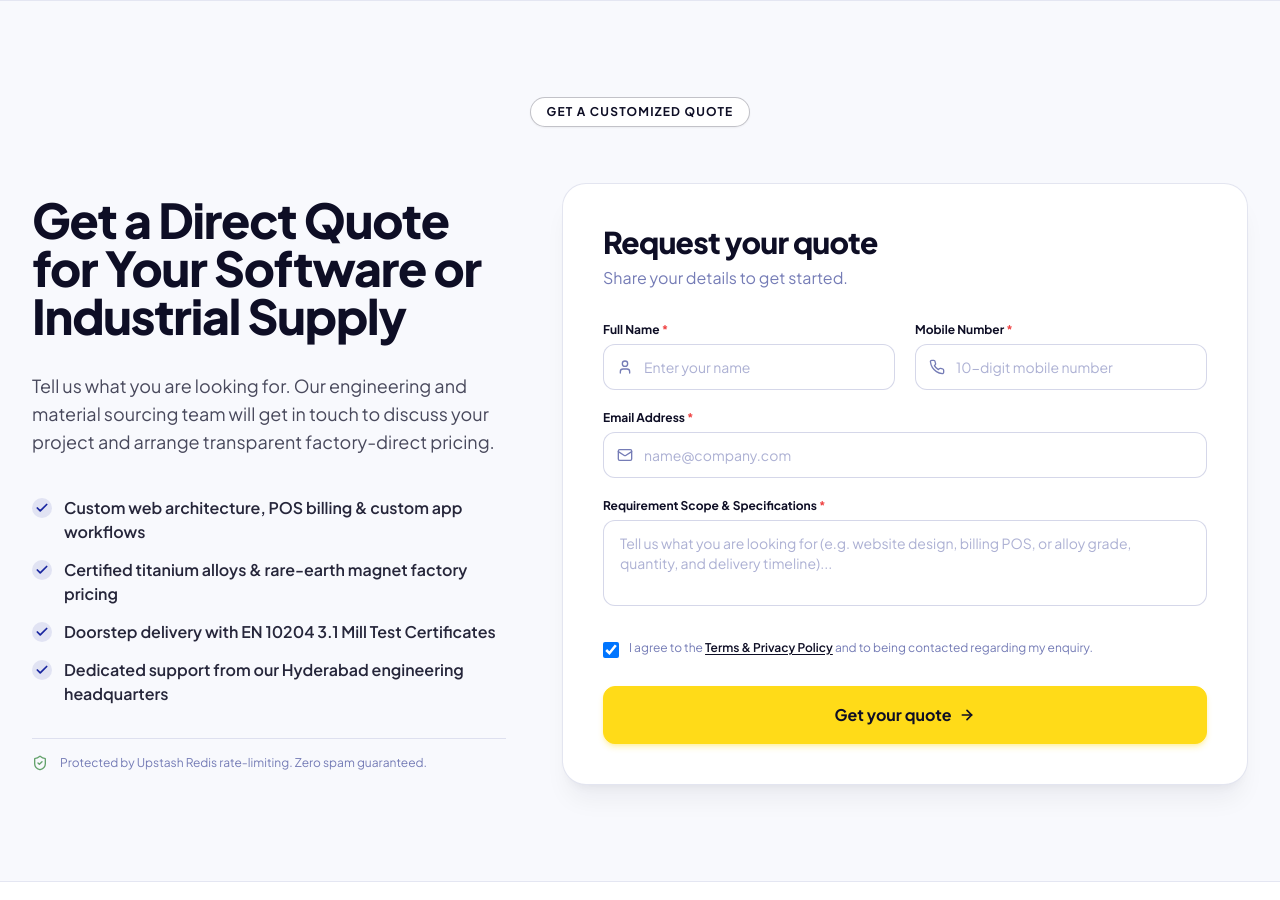
Scenario: Component: ContactUs › validates phone number format before submission
This screenshot has width=1280, height=900.
Type "John Doe" into the field with placeholder "Enter your name" at (749,367), box [603,344,895,390]
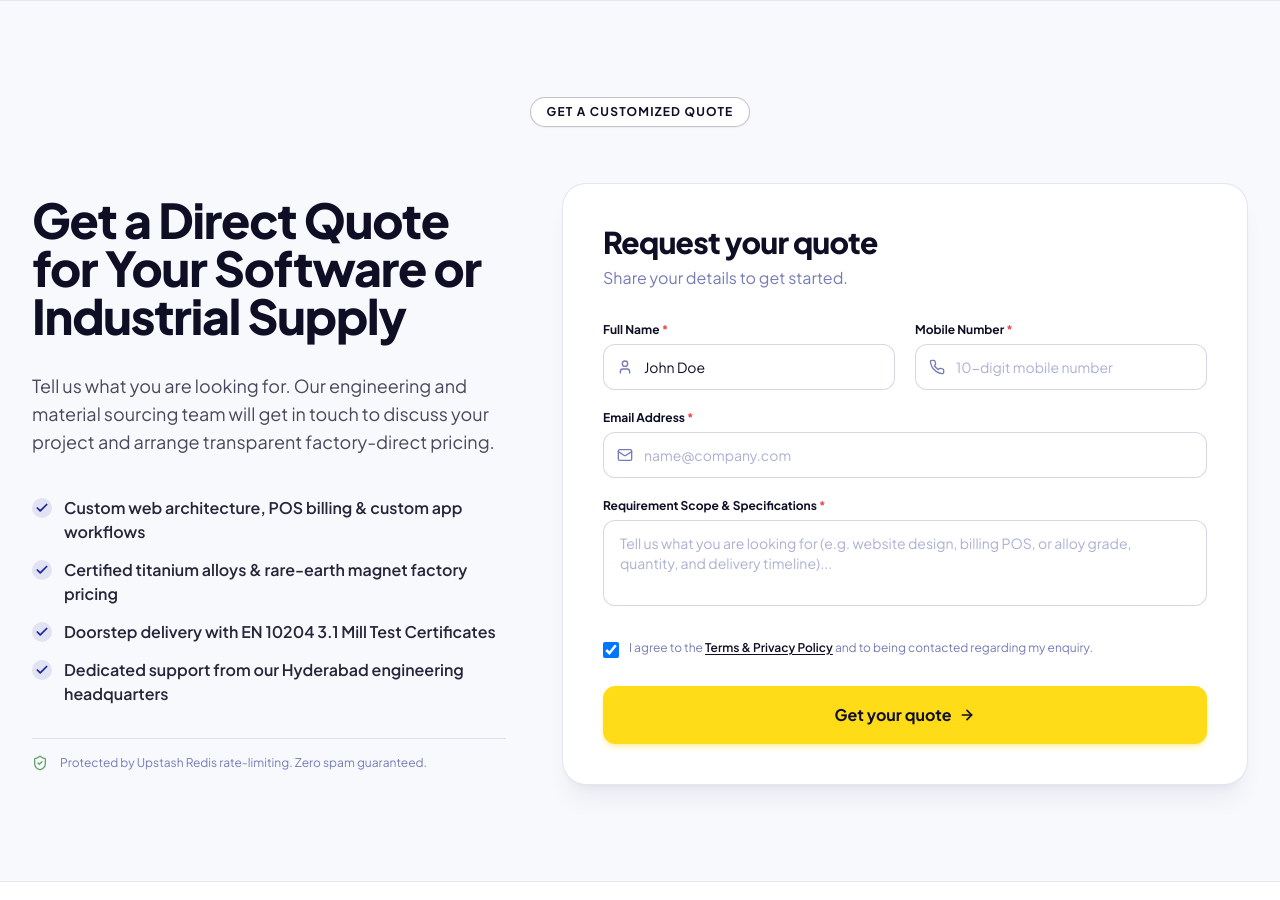
Type "123" into the field with placeholder "10-digit mobile number" at (1061,367), box [915,344,1207,390]
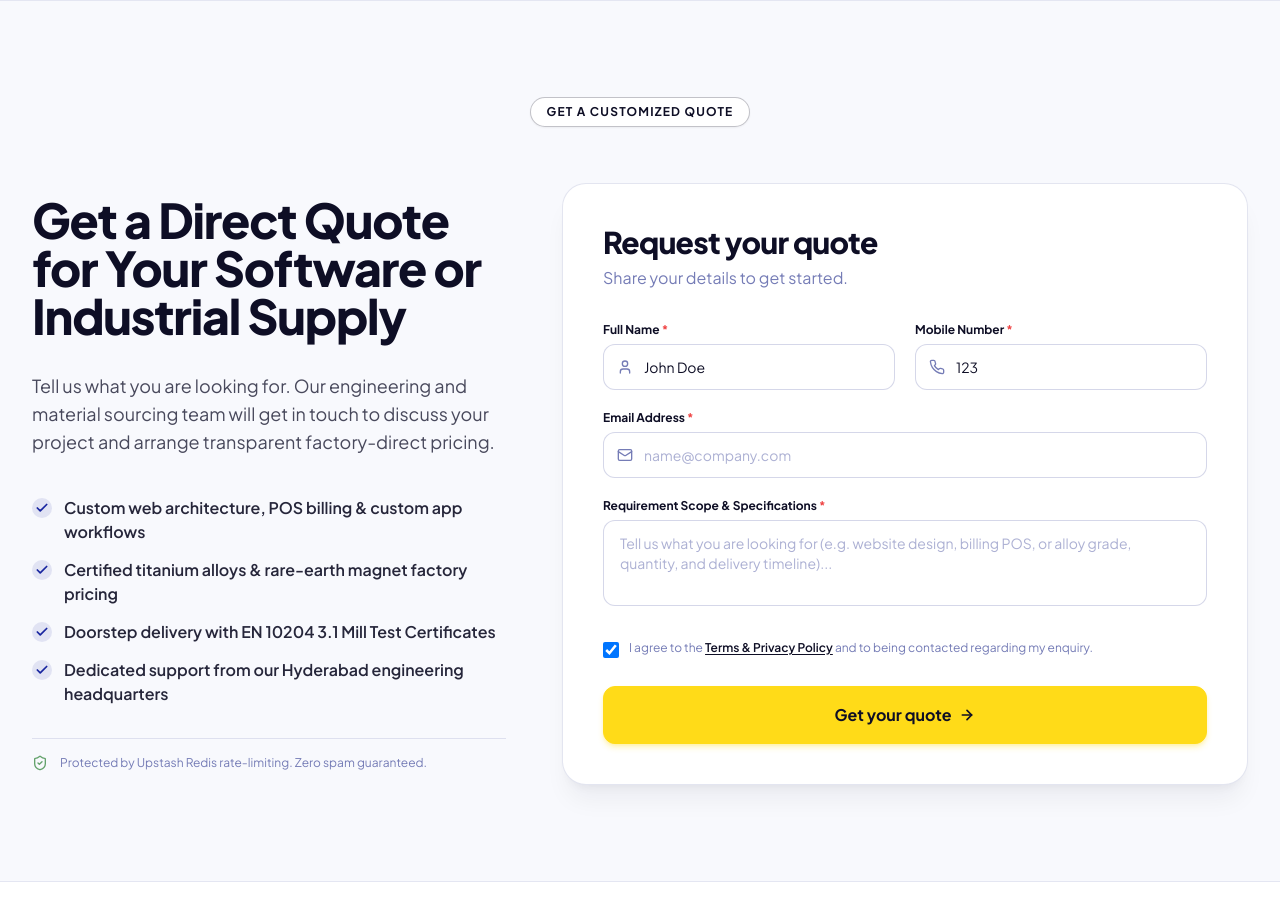
Click the button "Get your quote" at (905,715), box [603,686,1207,744]
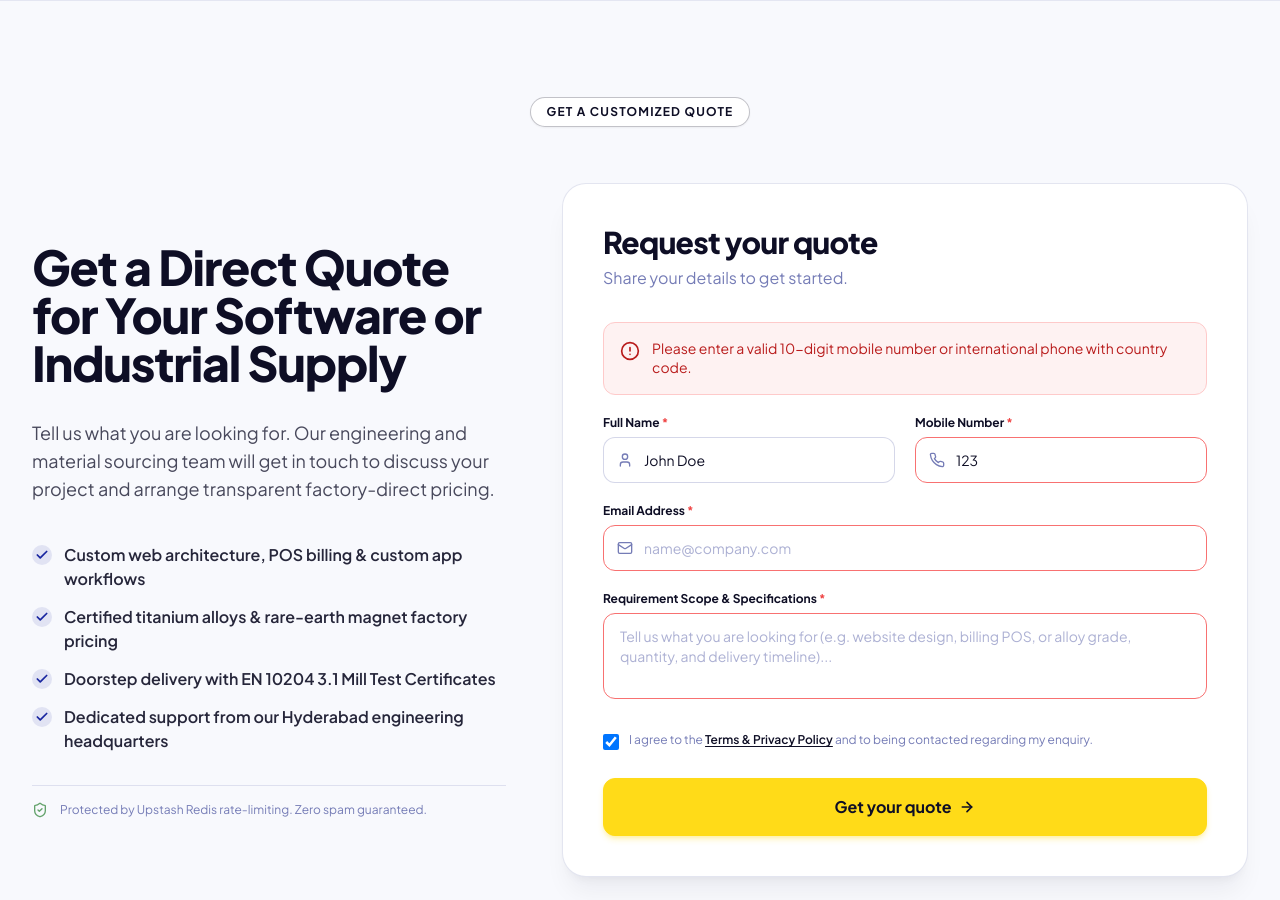
Now the text "Please enter a valid 10-digit mobile number" is shown, box [652,339,1167,376]
